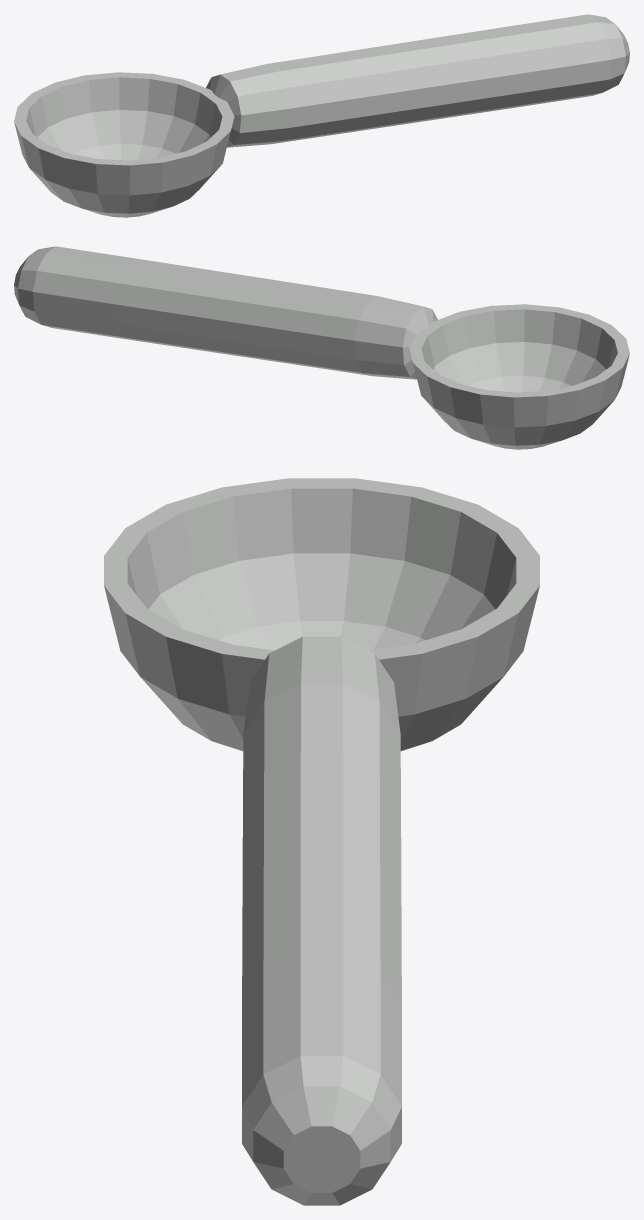
Rendered from SM_Cook_SorbetesScoop_01.fbx.
3 renders of one model, top to bottom at view 1: azimuth 30°, elevation 25°; view 2: azimuth 150°, elevation 25°; view 3: azimuth 270°, elevation 25°, orthographic. The views are drawn at different scales.
Parts seen in each view (by area): view 1: SM_Cook_SorbetesScoop_01; view 2: SM_Cook_SorbetesScoop_01; view 3: SM_Cook_SorbetesScoop_01.
Boxes of the visible parts, box(x1,y1,x2,y2) form: SM_Cook_SorbetesScoop_01: box(14, 14, 629, 217); SM_Cook_SorbetesScoop_01: box(14, 246, 629, 449); SM_Cook_SorbetesScoop_01: box(104, 478, 539, 1205).
Size of the model in its own units: 0.198 by 0.0332 by 0.0632.
1 material, 1 textured.
